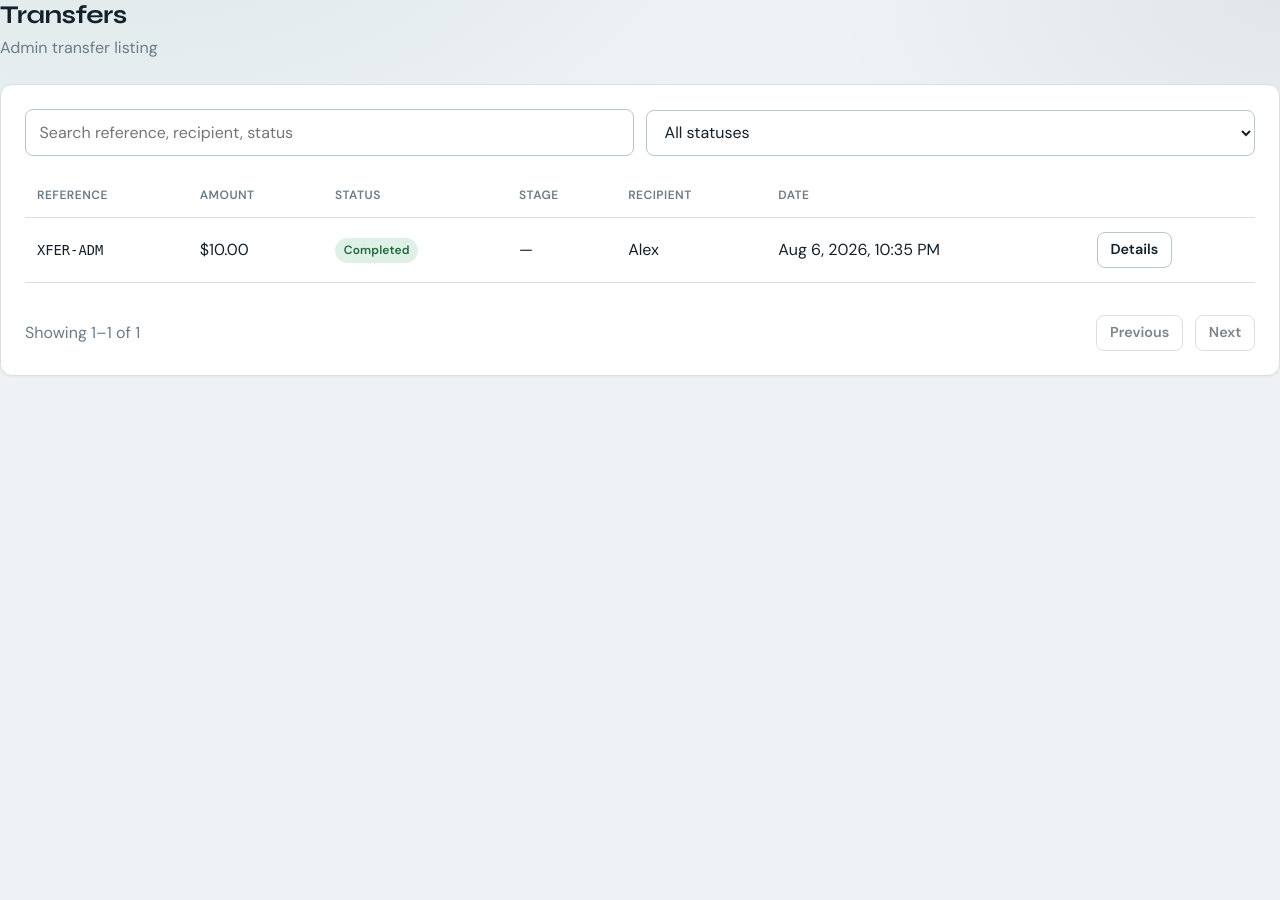
admin phase 3 screens › opens admin transfer details from list
This screenshot has width=1280, height=900.
Click the button "Details" at [1134, 250], box 1097,232 -> 1172,268
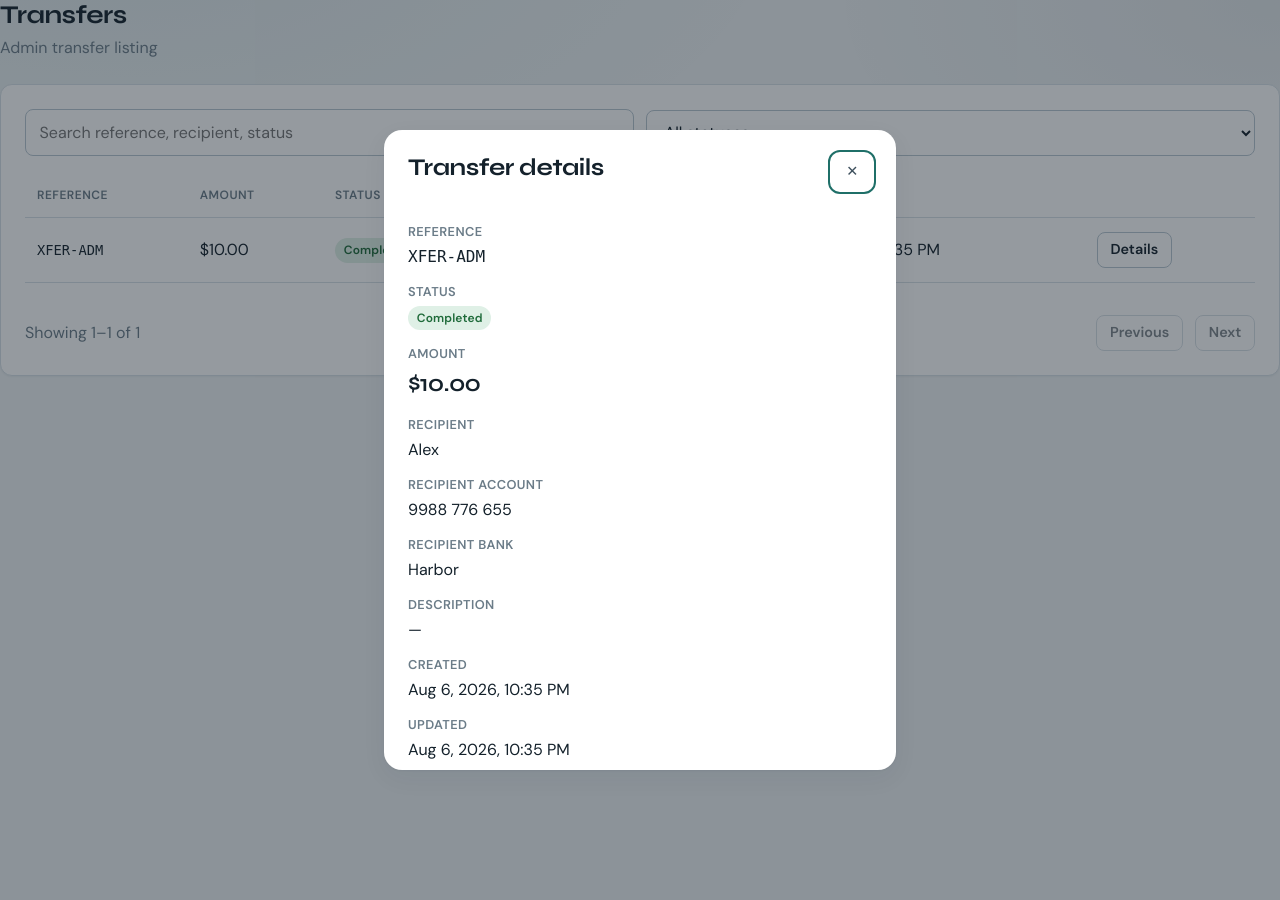
Now the dialog is shown, box 384,130 -> 896,770
Now the text "Harbor" is shown, box 408,559 -> 459,580
